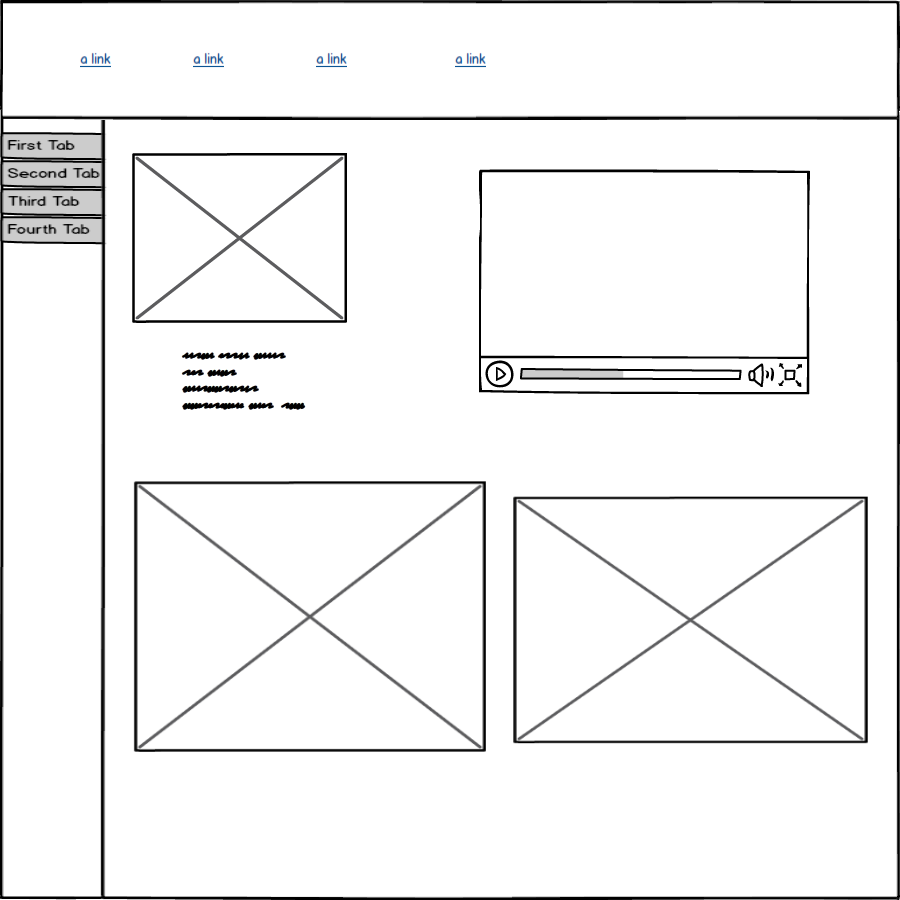image: (126, 478, 496, 759), (509, 491, 876, 748), (126, 149, 350, 329)
navlink: (444, 41, 496, 80), (302, 41, 356, 78), (185, 43, 235, 78), (75, 45, 122, 75)
p: (178, 345, 318, 422)
sidebar: (1, 129, 111, 248)
video: (476, 163, 813, 400)
